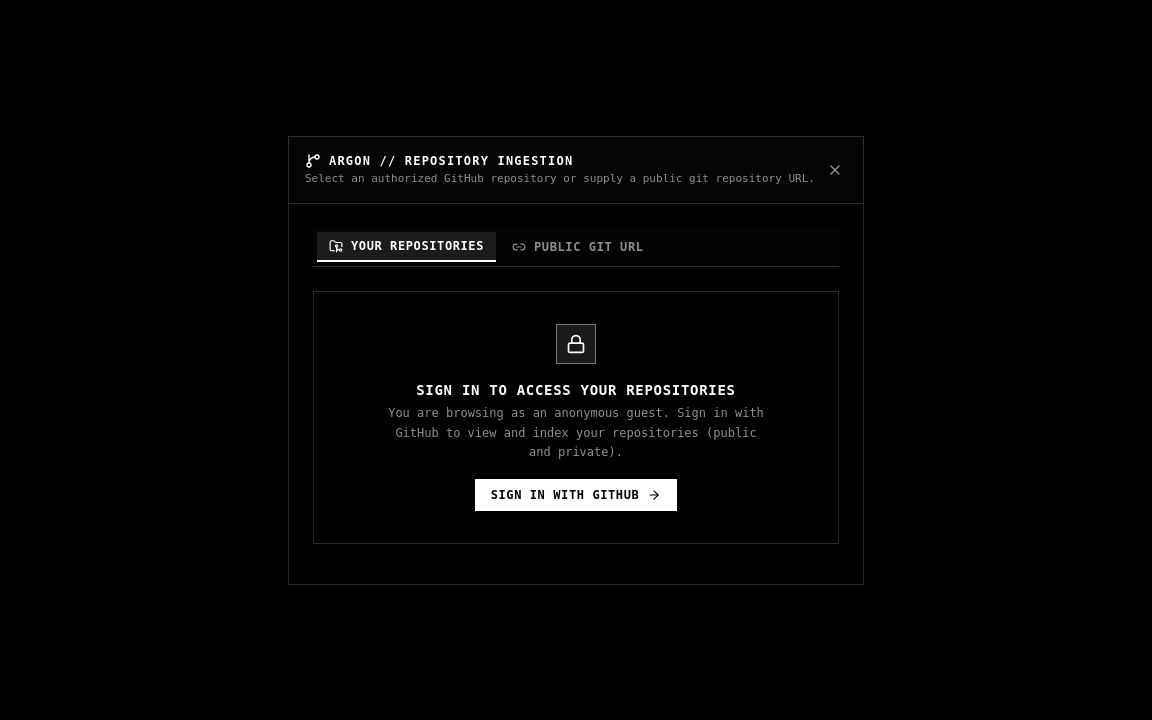
IngestModal & RepoPicker Integration (Task 07-03-01, ING-04) › Public Git URL ingestion (real gateway job) › shows the gateway rejection (e.g. 429 busy) instead of pretending to succeed
Click the tab with test id "tab-public-git-url" at (578,247), box [500, 232, 656, 262]
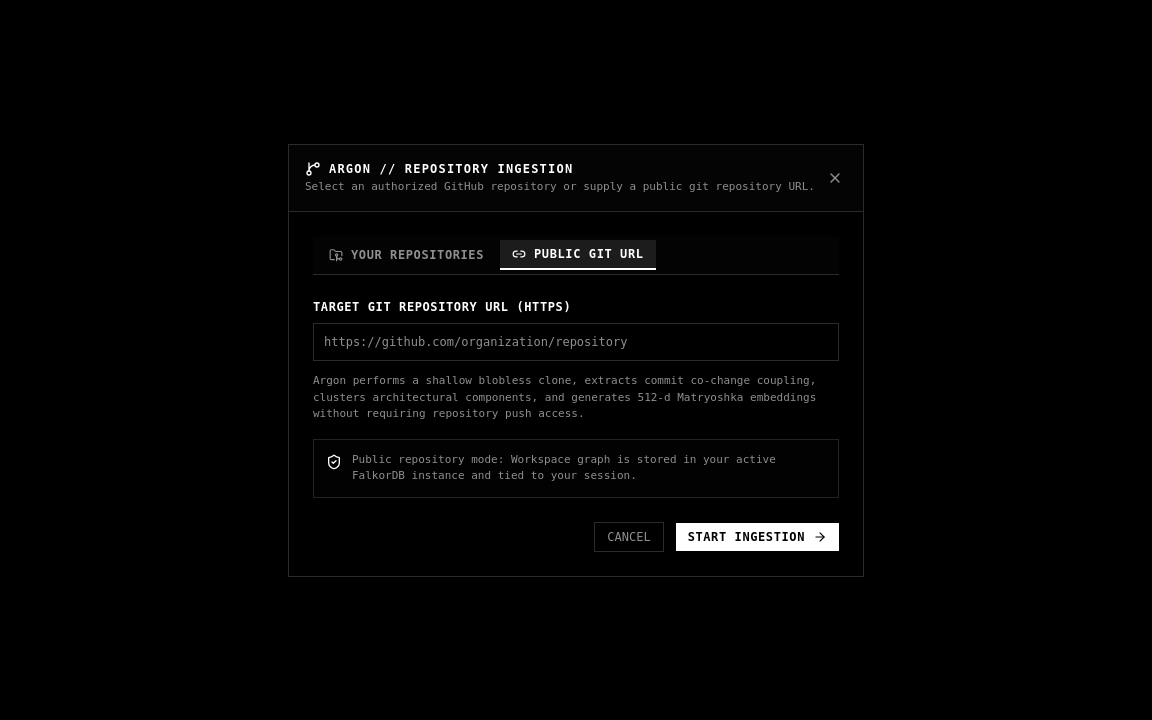
Type "https://github.com/a/b" into the field with test id "ingest-url-input" at (576,342), box [313, 323, 839, 361]
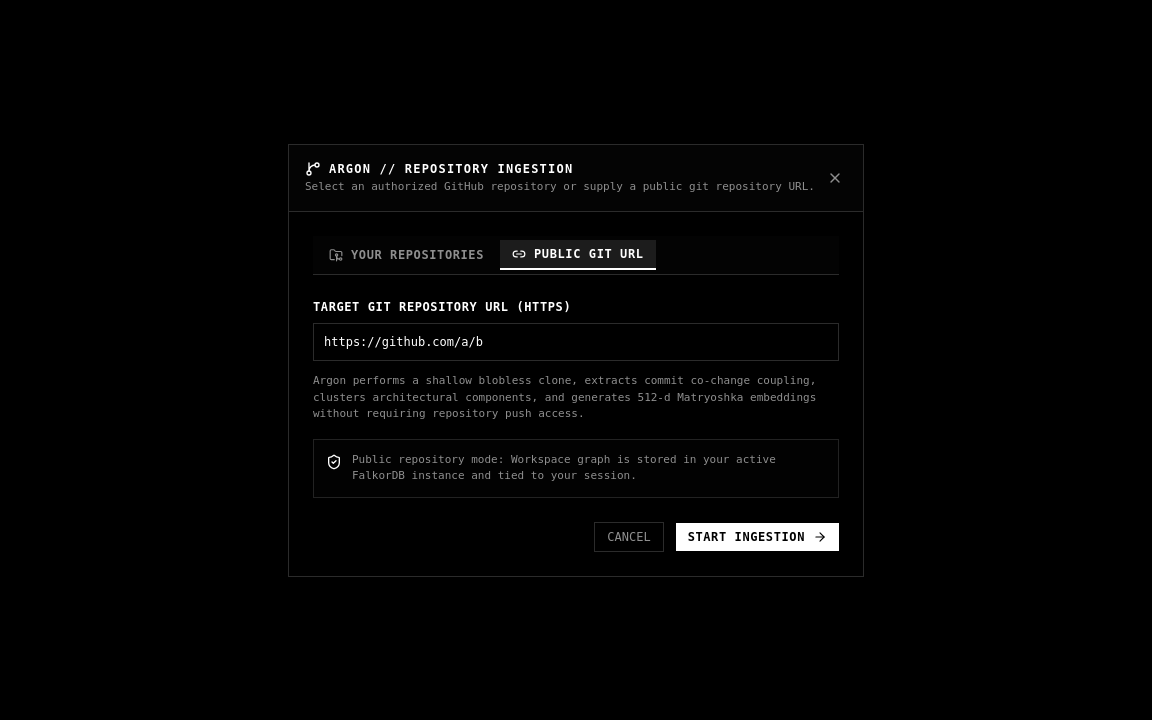
Click the button with test id "submit-ingest-button" at (757,536), box [676, 522, 839, 550]
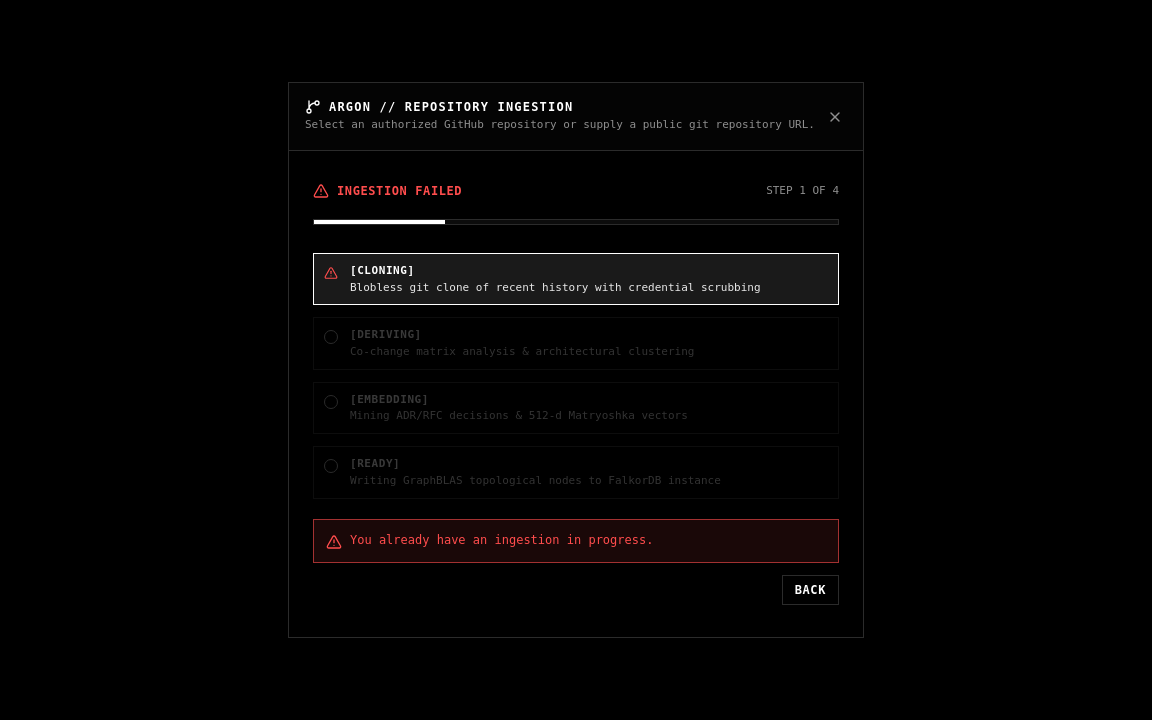
Expected: the message with test id "ingest-error" shows "already have an ingestion in progress", [350, 533, 653, 547]
